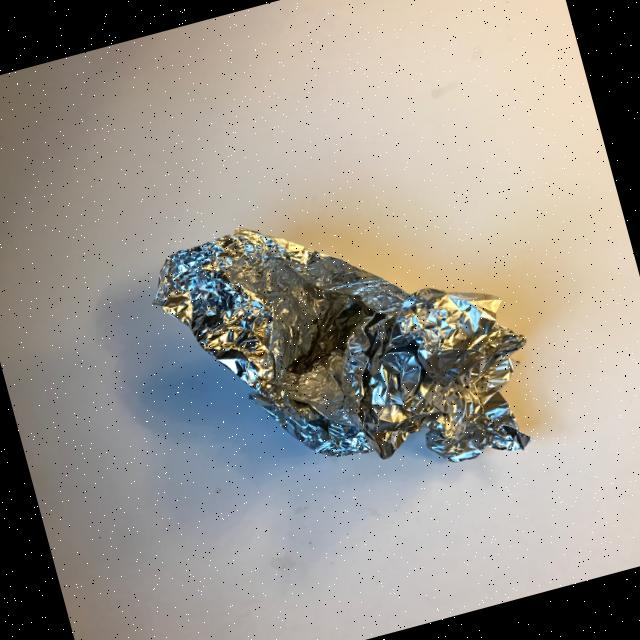metal: (138, 162, 554, 532)
